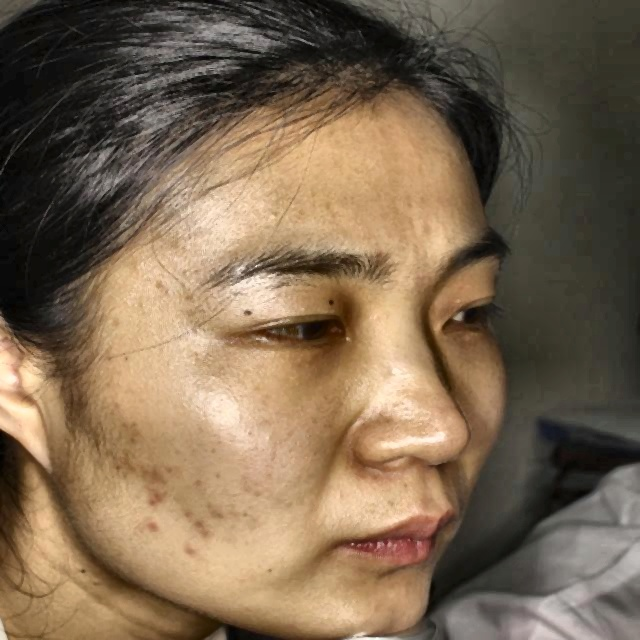comedone: (144, 458, 174, 486), (134, 490, 172, 512), (188, 519, 216, 544), (134, 516, 160, 536)
